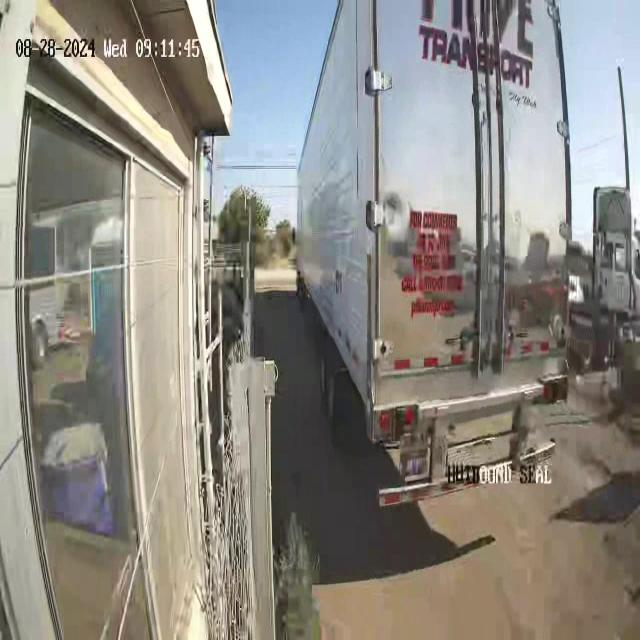CONTAINER: (298, 0, 574, 439)
